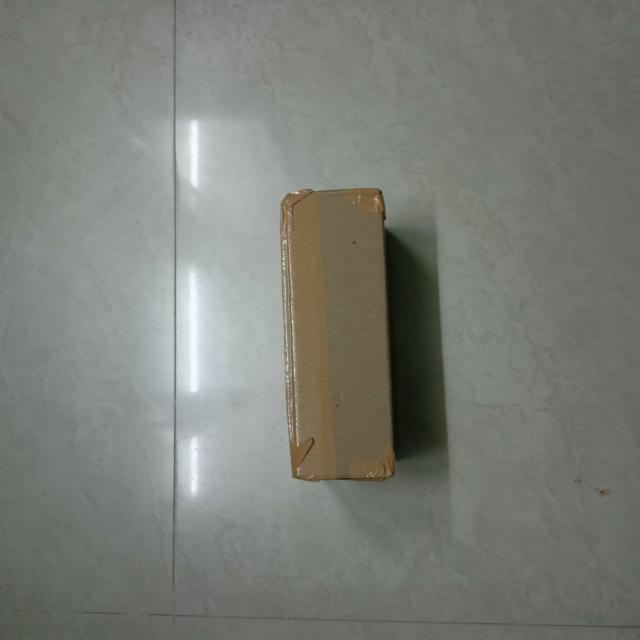box: (282, 191, 395, 482)
